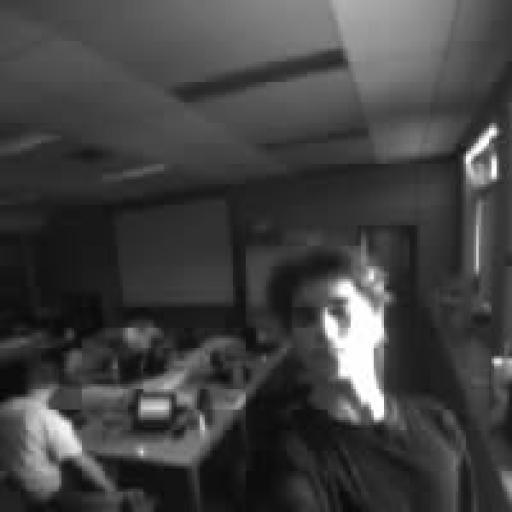human: (246, 244, 476, 511), (0, 356, 130, 511), (58, 325, 124, 388), (118, 305, 170, 361)
